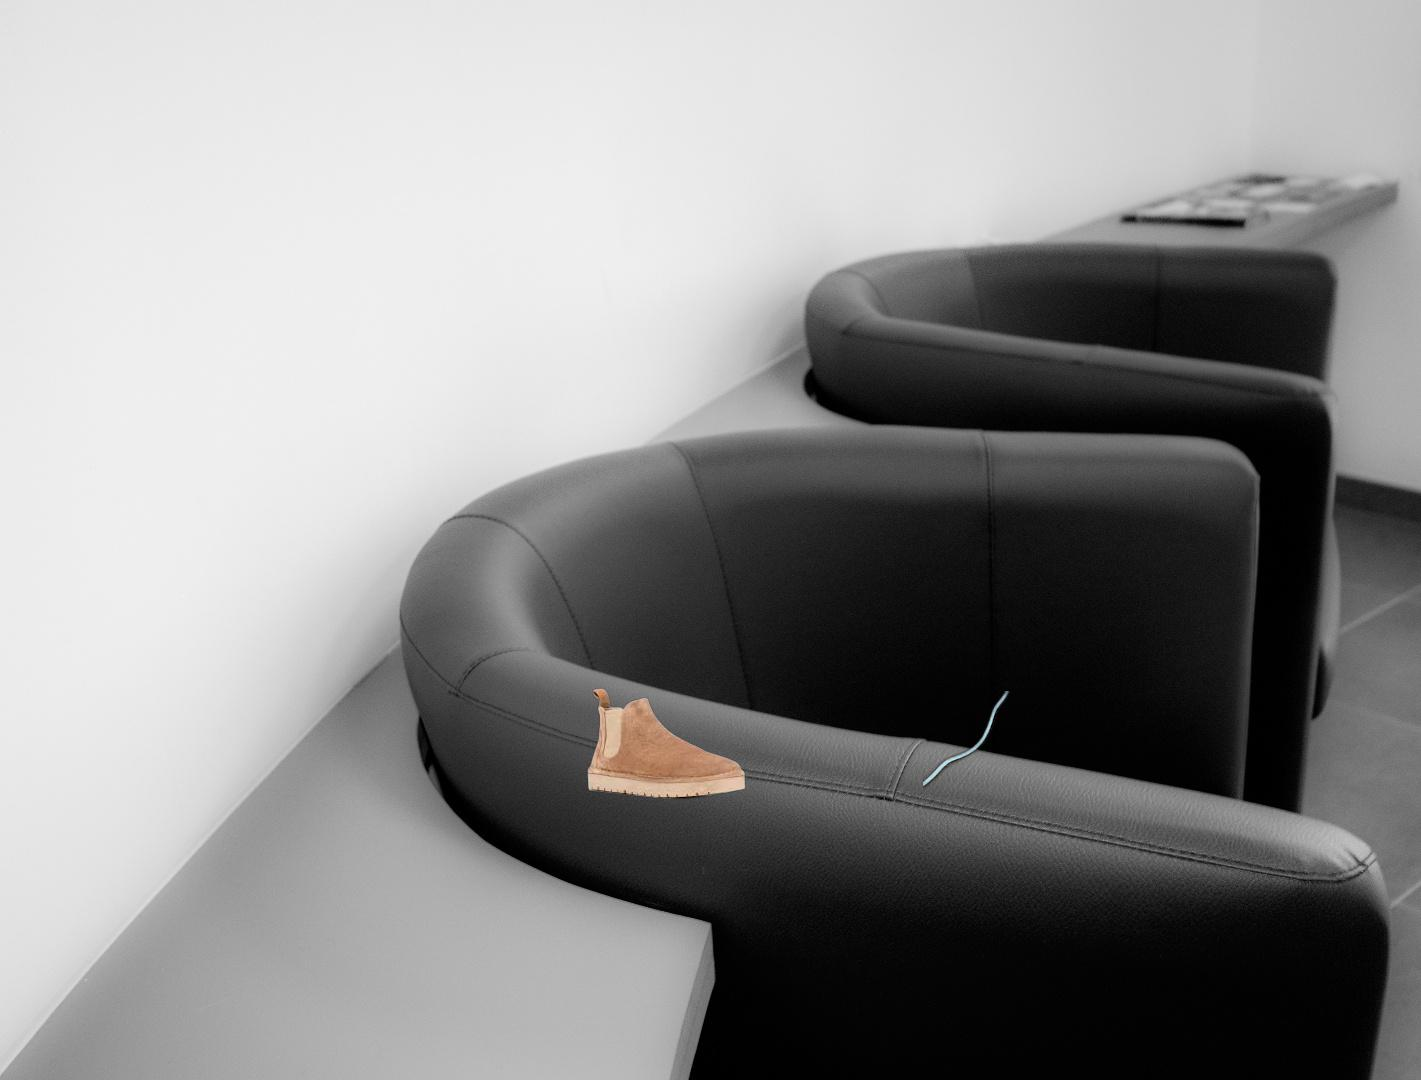glass: (923, 691, 1218, 1080)
shoes: (584, 685, 748, 802)
